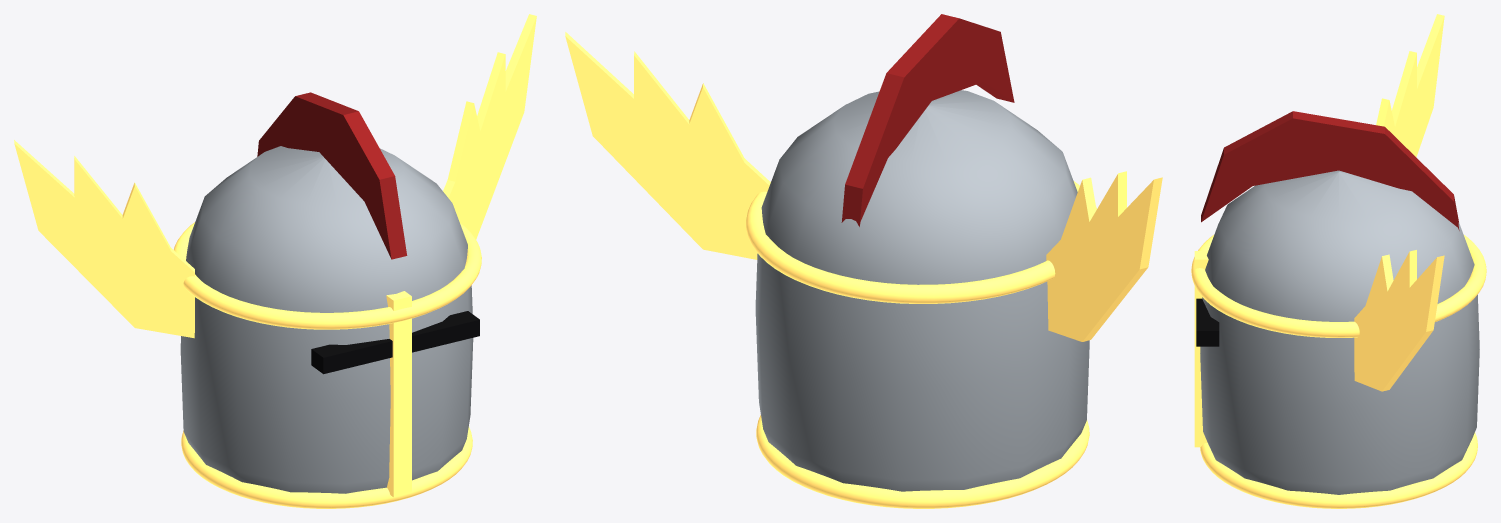
Rendered from HelmC.glb.
The picture shows the model from 3 angles, left to right: view 1: azimuth 30°, elevation 25°; view 2: azimuth 150°, elevation 25°; view 3: azimuth 270°, elevation 25°; orthographic projection. The views are drawn at different scales.
Parts seen in each view (by area): view 1: C_shell, C_wingR, C_crest, C_wingL, C_band, C_rim, C_cross, C_slit; view 2: C_shell, C_wingL, C_wingR, C_crest, C_band, C_rim; view 3: C_shell, C_crest, C_wingL, C_band, C_rim, C_wingR, C_cross, C_slit.
Boxes of the visible parts, x1,y1,x2,y2 form: C_shell: (180,146,473,493); C_wingR: (14,140,194,338); C_crest: (257,92,407,259); C_wingL: (443,14,536,239); C_band: (174,222,481,329); C_rim: (181,426,472,508); C_cross: (386,291,411,497); C_slit: (311,311,479,374); C_shell: (755,90,1089,491); C_wingL: (565,32,770,259); C_wingR: (1046,171,1162,341); C_crest: (841,14,1014,226); C_band: (746,181,1096,303); C_rim: (756,415,1089,508); C_shell: (1200,170,1479,494); C_crest: (1201,111,1459,230); C_wingL: (1354,250,1444,391); C_band: (1191,235,1486,337); C_rim: (1200,432,1477,508); C_wingR: (1376,14,1444,157); C_cross: (1194,251,1208,447); C_slit: (1196,298,1219,346).
Bounding box in the file's own units: 1 × 0.649 × 0.514.
